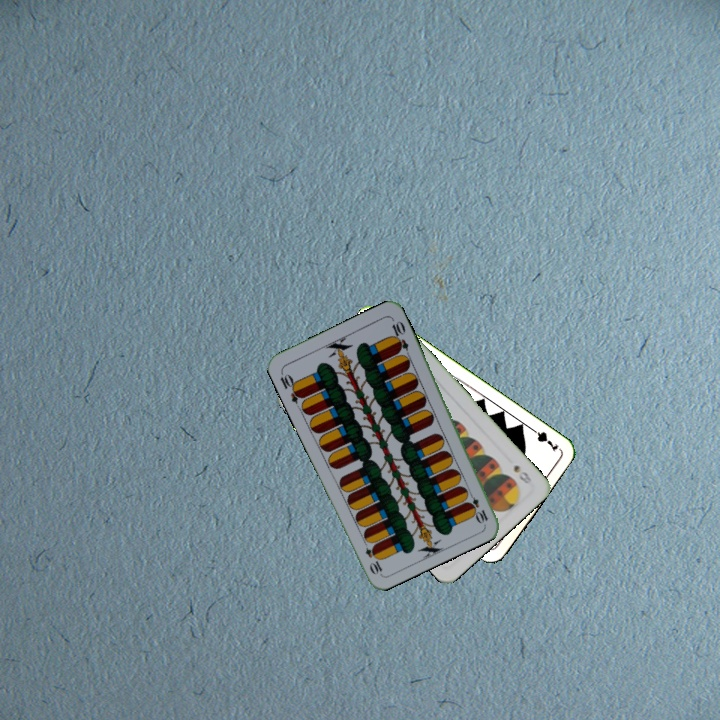E10: (276, 368, 306, 406), (463, 487, 491, 526)
G7: (526, 423, 561, 454)
S8: (509, 461, 534, 486)
